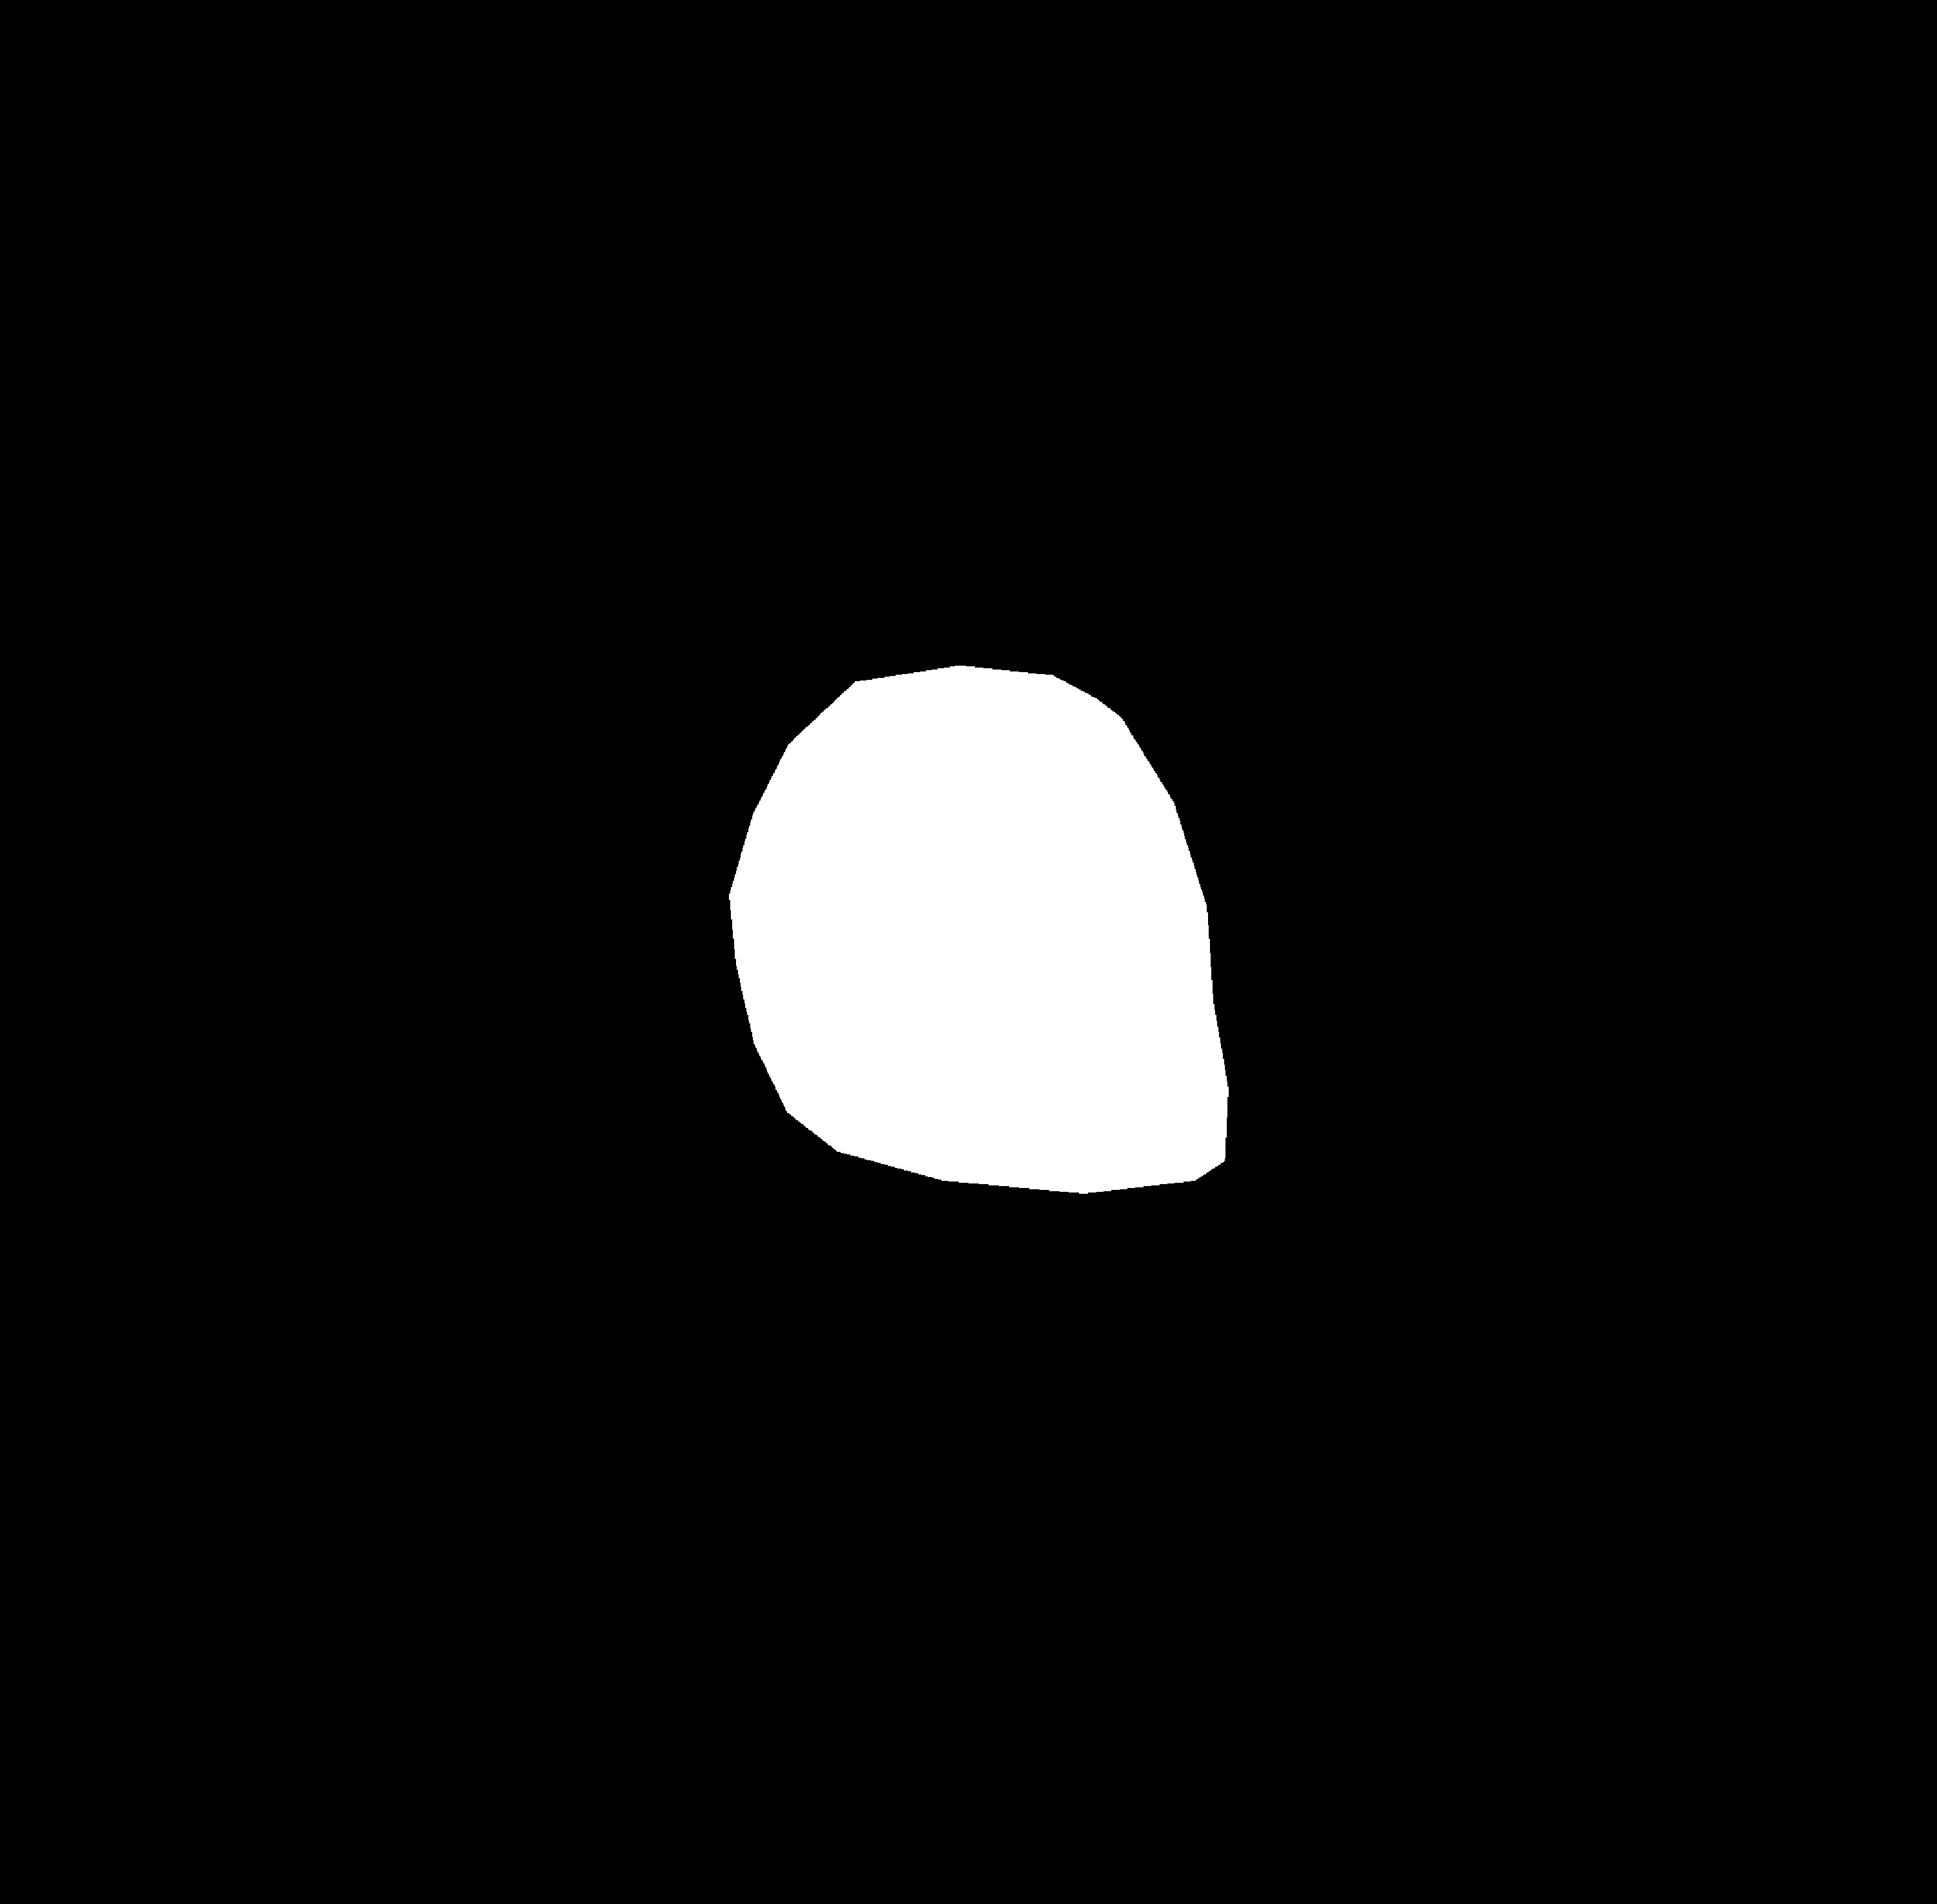heart: (732, 739, 1229, 1182)
left_lung: (326, 155, 844, 1362)
right_lung: (996, 133, 1529, 1369)
